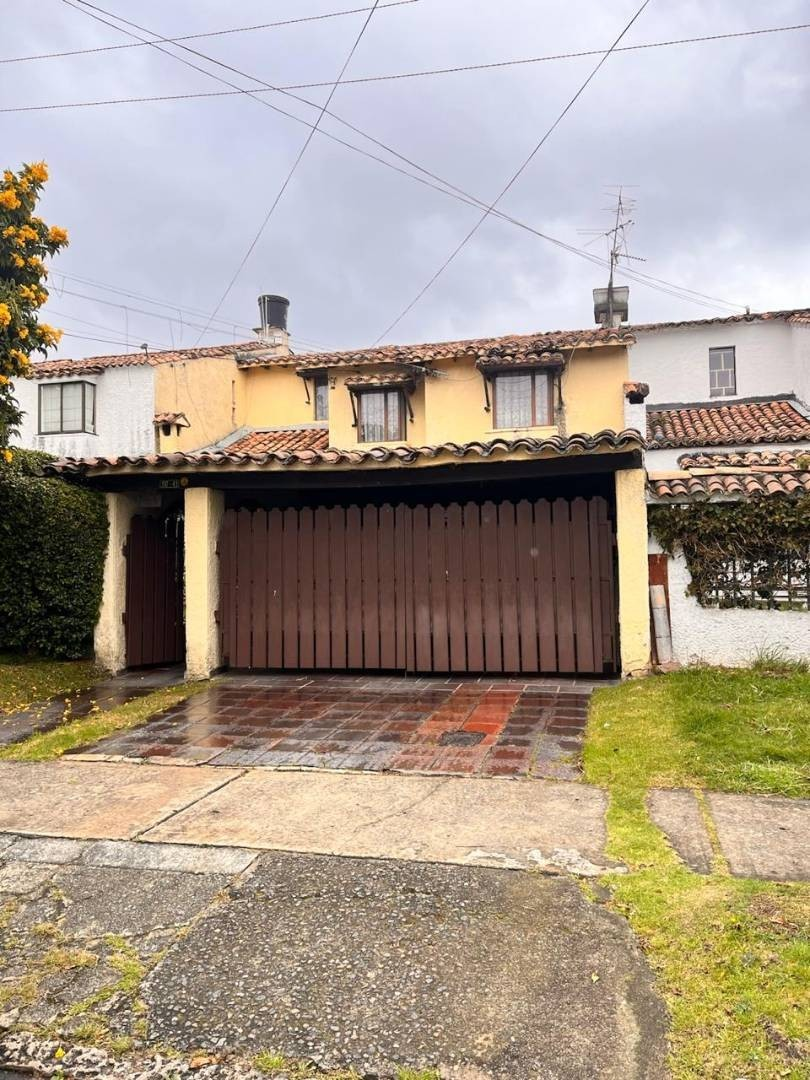House: (102, 325, 675, 689)
